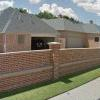Chimney: (85, 16, 96, 26)
